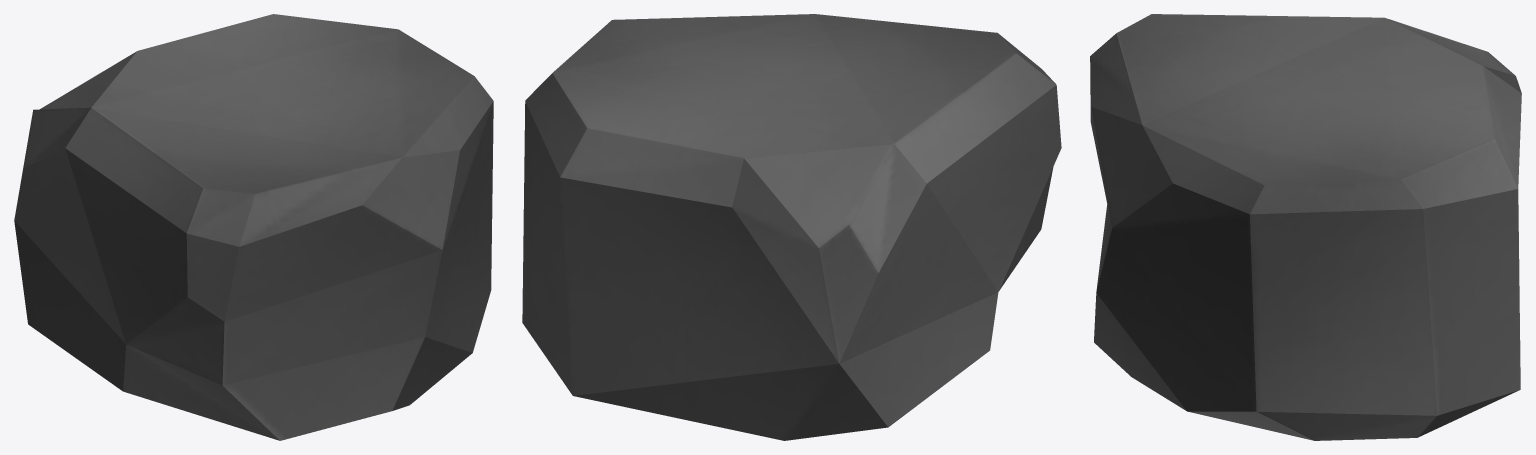
The model's file is rock_5.glb.
3 views of the same model, side by side, from view 1: azimuth 30°, elevation 25°; view 2: azimuth 150°, elevation 25°; view 3: azimuth 270°, elevation 25° (orthographic). The views are drawn at different scales.
Visible parts, largest first — view 1: rock_5; view 2: rock_5; view 3: rock_5.
Boxes of the visible parts, x1=… form: rock_5: x1=14, y1=14, x2=493, y2=440; rock_5: x1=522, y1=14, x2=1061, y2=440; rock_5: x1=1090, y1=14, x2=1521, y2=440.
Bounding box in the file's own units: 1.22 × 0.8506 × 1.2.
Materials: 1 (1 with a texture image).
